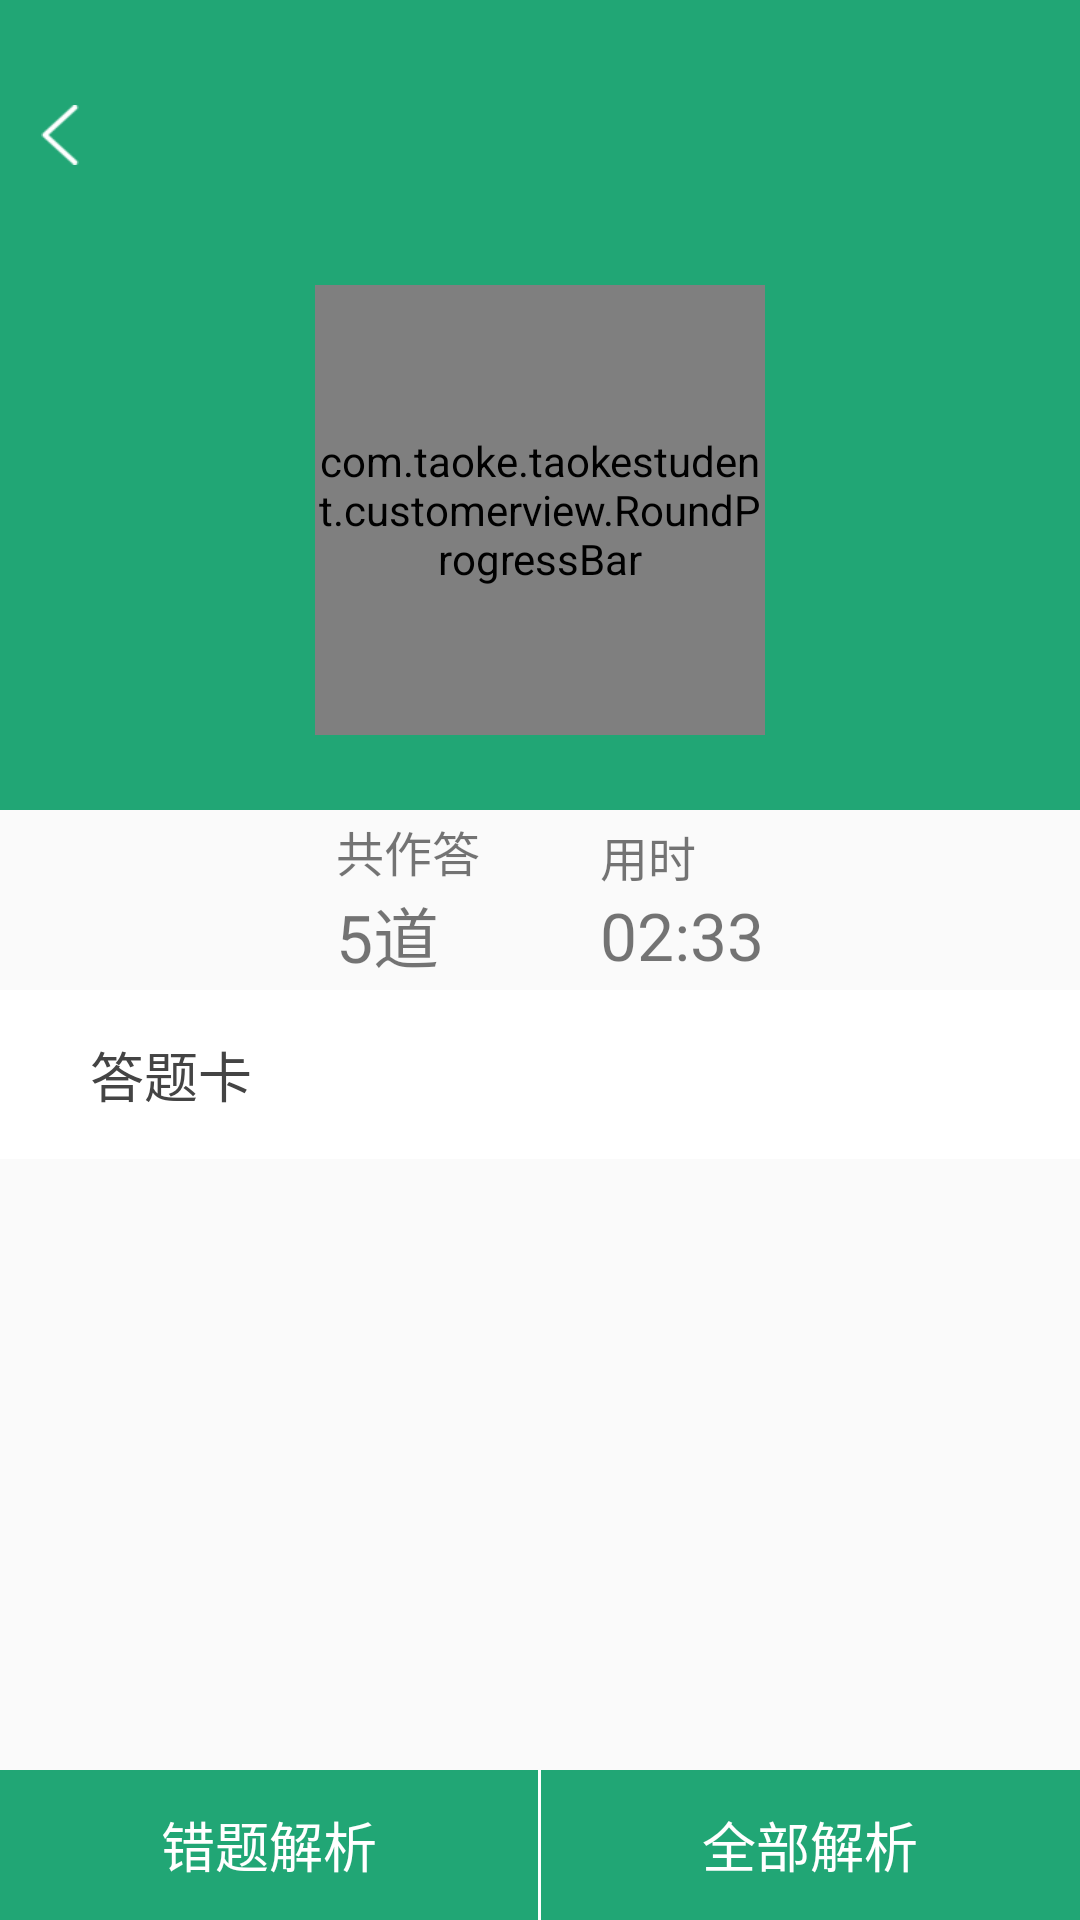

Icons on this 1080px×1920px Android screen, each with its box as rect(x1, y1, x2, y2):
arrow left: rect(41, 105, 79, 165)
